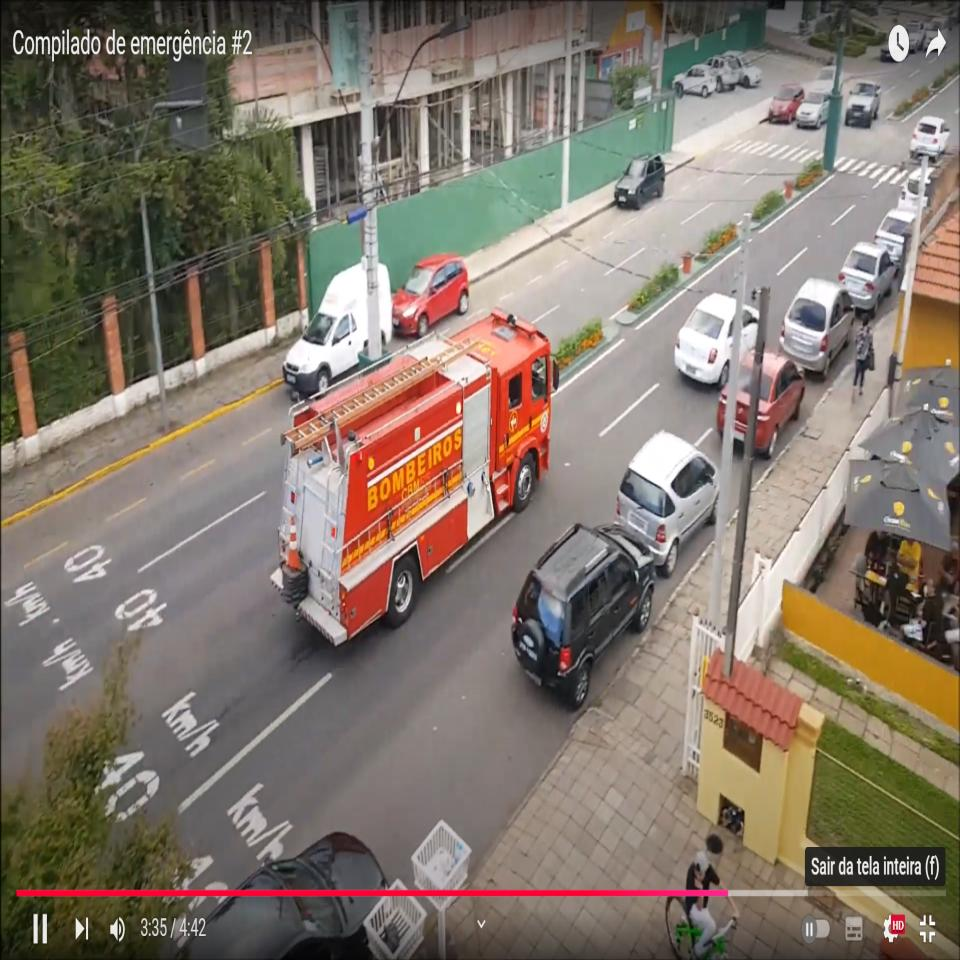viatura: (270, 304, 564, 648)
